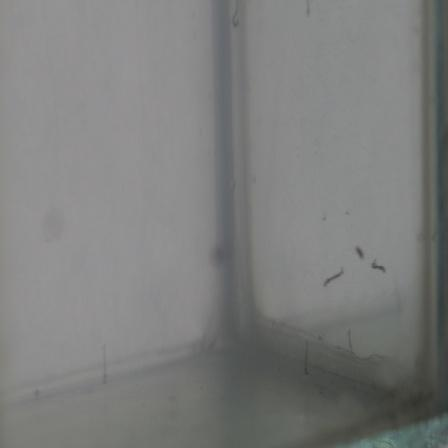Jentik-Nyamuk: (321, 263, 347, 292)
